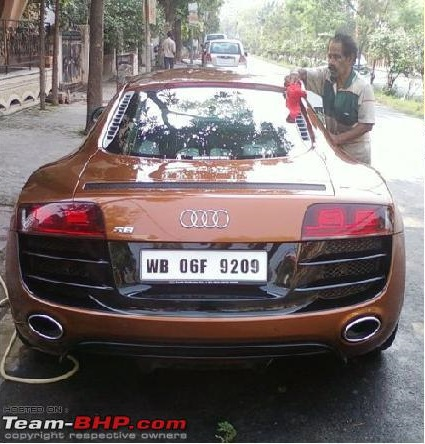WB06F9209: (141, 249, 269, 283)
